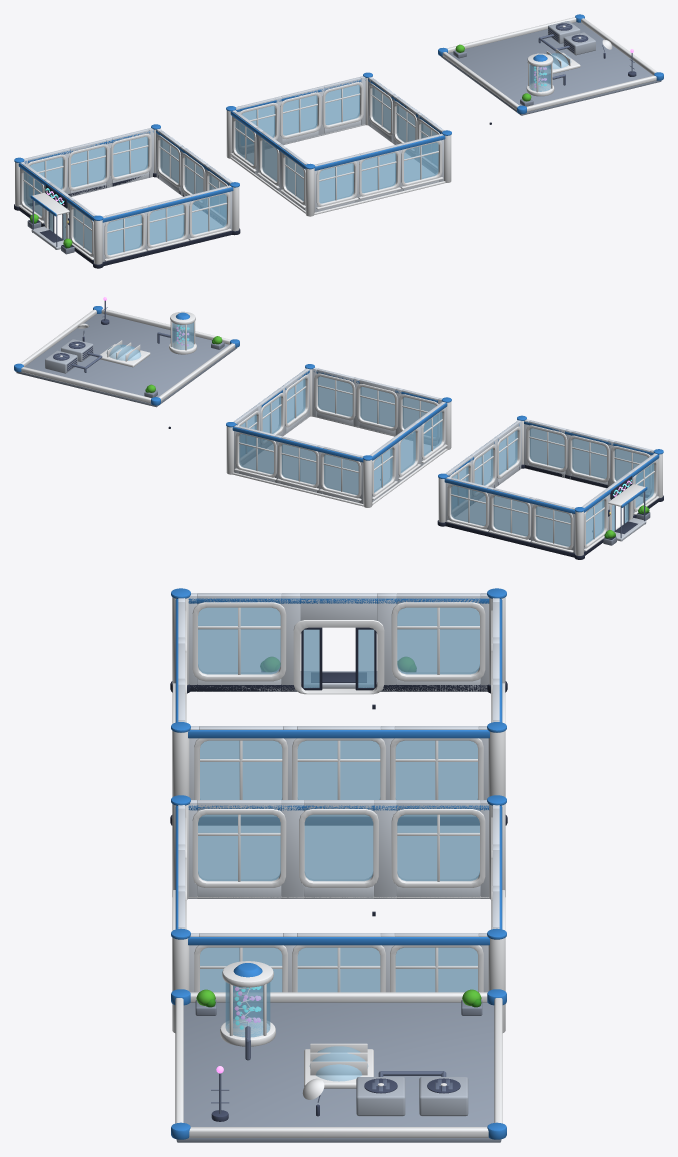
The model's file is BaseBuilding.fbx.
3 views of the same model, one above another, from view 1: azimuth 30°, elevation 25°; view 2: azimuth 150°, elevation 25°; view 3: azimuth 270°, elevation 25° (orthographic). The views are drawn at different scales.
Visible parts, largest first — view 1: R_Slab__RoofTop, U_North__LabGlass, G_North__LabGlass, G_South__LabGlass, U_South__LabGlass, U_North__LabWhite, R_Slab__LabWhite, G_North__LabWhite, U_South__LabWhite, U_Front__LabWhite, G_South__LabWhite, U_Front__LabGlass (+25 smaller); view 2: R_Slab__RoofTop, U_South__LabGlass, G_South__LabGlass, G_North__LabGlass, U_North__LabGlass, U_South__LabWhite, R_Slab__LabWhite, G_South__LabWhite, U_North__LabWhite, U_Front__LabWhite, G_North__LabWhite, U_Front__LabGlass (+24 smaller); view 3: R_Slab__RoofTop, U_Front__LabGlass, G_Back__LabGlass, G_Front__LabGlass, U_Back__LabGlass, U_Front__WallPanel, R_Slab__LabWhite, G_Front__WallPanel, U_Front__LabWhite, G_Front__LabWhite, G_Back__LabWhite, U_Back__LabWhite (+23 smaller).
Boxes of the visible parts, x1,y1,x2,y2 form: R_Slab__RoofTop: (440, 22, 661, 115); U_North__LabGlass: (319, 142, 438, 203); G_North__LabGlass: (107, 194, 226, 255); G_South__LabGlass: (29, 136, 148, 196); U_South__LabGlass: (241, 85, 359, 145); U_North__LabWhite: (314, 140, 445, 214); R_Slab__LabWhite: (442, 17, 657, 111); G_North__LabWhite: (104, 192, 231, 261); U_South__LabWhite: (238, 82, 365, 153); U_Front__LabWhite: (230, 117, 305, 213); G_South__LabWhite: (26, 134, 151, 200); U_Front__LabGlass: (235, 120, 303, 201); R_Slab__RoofTop: (16, 313, 236, 407); U_South__LabGlass: (239, 434, 358, 494); G_South__LabGlass: (451, 485, 570, 546); G_North__LabGlass: (529, 428, 648, 488); U_North__LabGlass: (318, 376, 436, 436); U_South__LabWhite: (232, 432, 363, 506); R_Slab__LabWhite: (20, 308, 235, 403); G_South__LabWhite: (446, 483, 573, 552); U_North__LabWhite: (312, 373, 439, 440); U_Front__LabWhite: (372, 408, 447, 504); G_North__LabWhite: (526, 425, 651, 492); U_Front__LabGlass: (374, 411, 442, 492); R_Slab__RoofTop: (176, 1002, 501, 1142); U_Front__LabGlass: (198, 814, 479, 881); G_Back__LabGlass: (200, 740, 477, 799); G_Front__LabGlass: (198, 607, 479, 674); U_Back__LabGlass: (200, 947, 477, 992); U_Front__WallPanel: (188, 800, 489, 898); R_Slab__LabWhite: (175, 992, 502, 1137); G_Front__WallPanel: (188, 593, 489, 691); U_Front__LabWhite: (188, 809, 489, 898); G_Front__LabWhite: (192, 602, 485, 681); G_Back__LabWhite: (194, 738, 483, 816); U_Back__LabWhite: (194, 945, 483, 992).
Bounding box in the file's own units: 19185 × 2735 × 4820.
